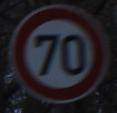Speed Limit -70-: (0, 0, 116, 112)
